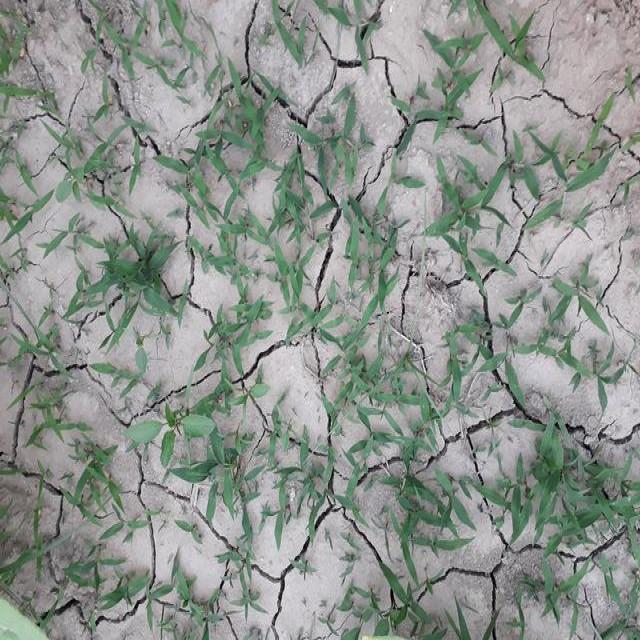weed: (172, 62, 540, 265), (122, 367, 457, 554), (470, 411, 636, 586), (65, 203, 202, 325)
